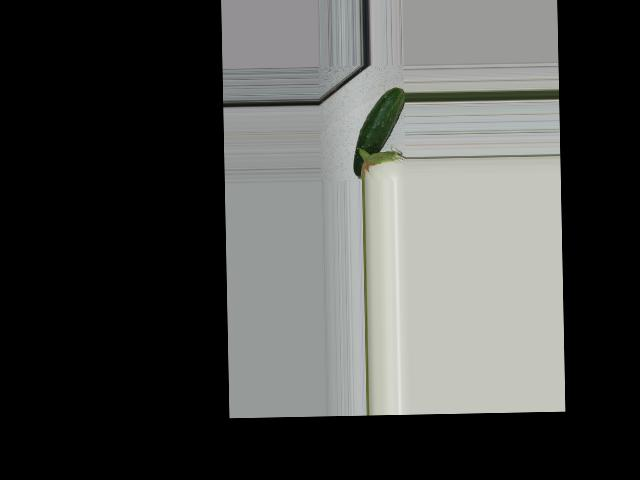cucumber: (352, 87, 406, 178)
